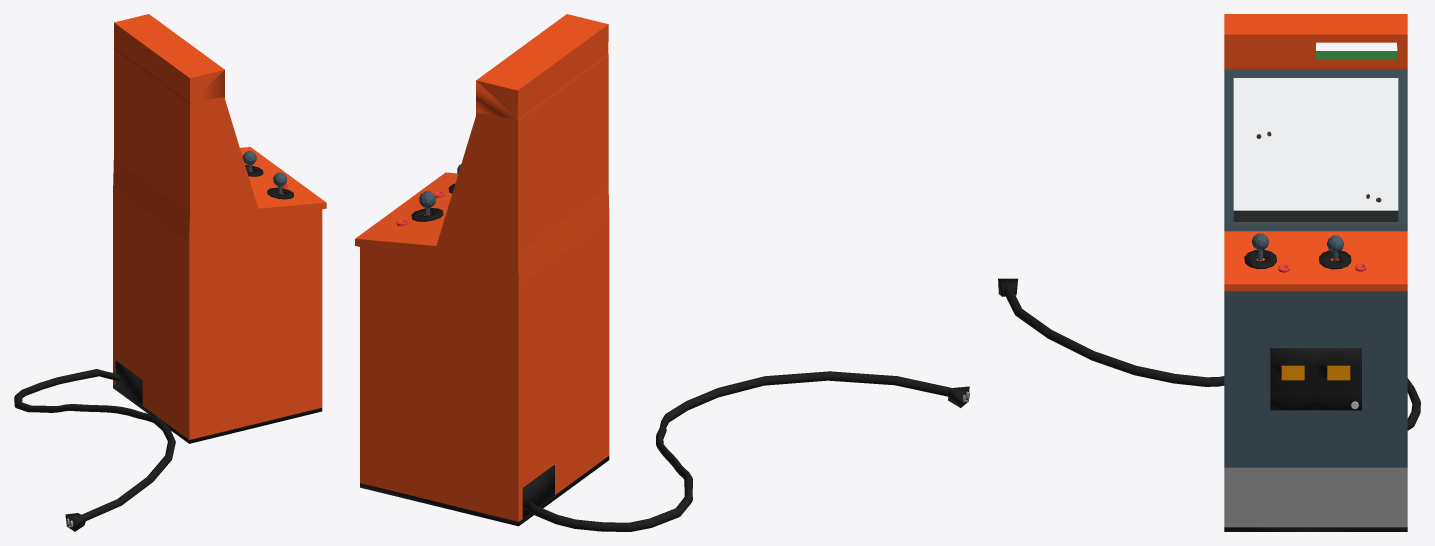
Rendered from acd2.glb.
The picture shows the model from 3 angles, left to right: view 1: azimuth 30°, elevation 25°; view 2: azimuth 150°, elevation 25°; view 3: azimuth 270°, elevation 25°; orthographic projection. The views are drawn at different scales.
Parts seen in each view (by area): view 1: Node-Mesh, Node-Mesh_1, Node-Mesh_3; view 2: Node-Mesh, Node-Mesh_1; view 3: Node-Mesh_3, Node-Mesh_7, Node-Mesh, Node-Mesh_1, Node-Mesh_2, Node-Mesh_4, Node-Mesh_6.
Boxes of the visible parts, x1,y1,x2,y2 form: Node-Mesh: (113, 14, 326, 439); Node-Mesh_1: (14, 165, 322, 531); Node-Mesh_3: (242, 151, 286, 194); Node-Mesh: (355, 14, 609, 521); Node-Mesh_1: (360, 184, 969, 531); Node-Mesh_3: (1224, 70, 1407, 467); Node-Mesh_7: (1234, 78, 1397, 222); Node-Mesh: (1224, 14, 1407, 291); Node-Mesh_1: (998, 131, 1420, 531); Node-Mesh_2: (1224, 467, 1407, 527); Node-Mesh_4: (1281, 365, 1350, 380); Node-Mesh_6: (1316, 51, 1397, 59).
Size of the model in its own units: 2.49 by 2.49 by 2.17.
